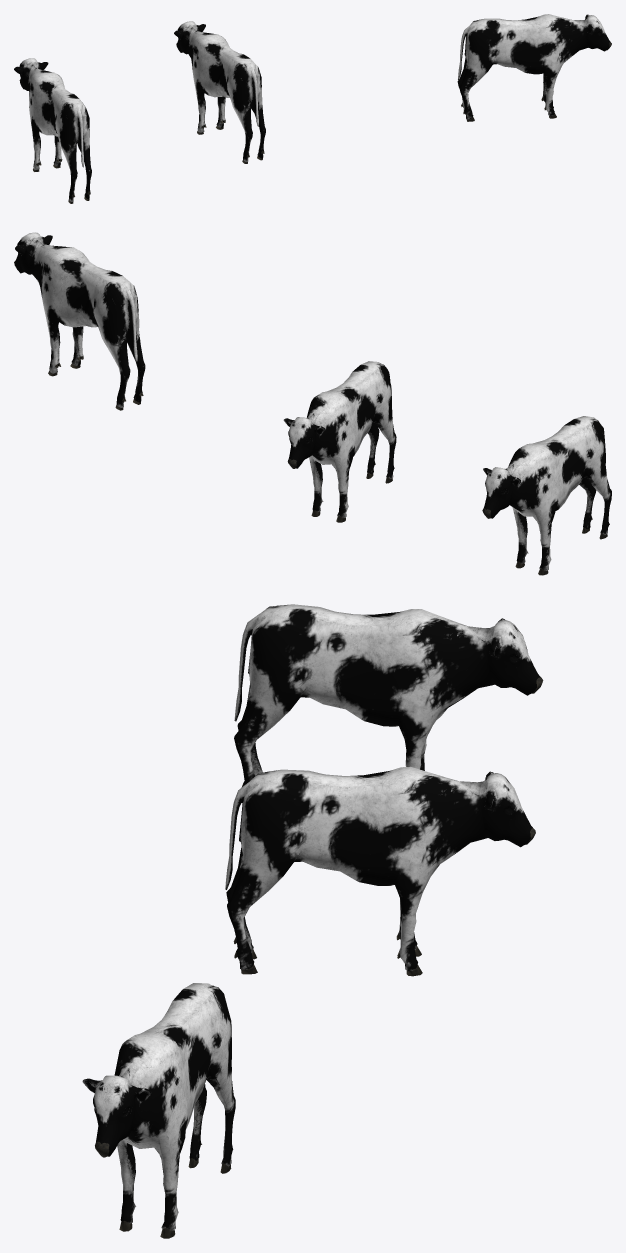
Rendered from cow1.gltf.
3 views of the same model, one above another, from view 1: azimuth 30°, elevation 25°; view 2: azimuth 150°, elevation 25°; view 3: azimuth 270°, elevation 25° (orthographic). The views are drawn at different scales.
Parts seen in each view (by area): view 1: cow.005; view 2: cow.005; view 3: cow.005.
Part boxes in pixels (x1,y1,x2,y2): cow.005: (14, 14, 611, 203); cow.005: (14, 232, 611, 575); cow.005: (82, 604, 543, 1238).
Bounding box in the file's own units: 25.95 × 4.7 × 10.23.
Materials: 4 (4 with a texture image).
